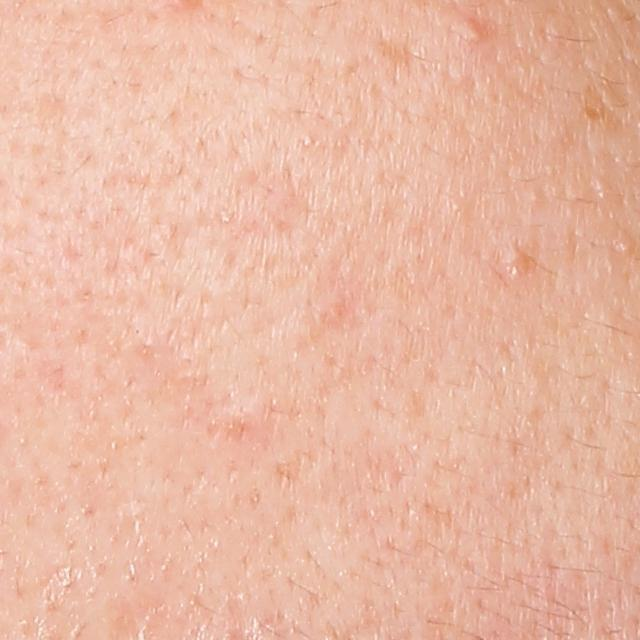comedo: (501, 243, 534, 278), (451, 19, 483, 45), (614, 233, 636, 260)
